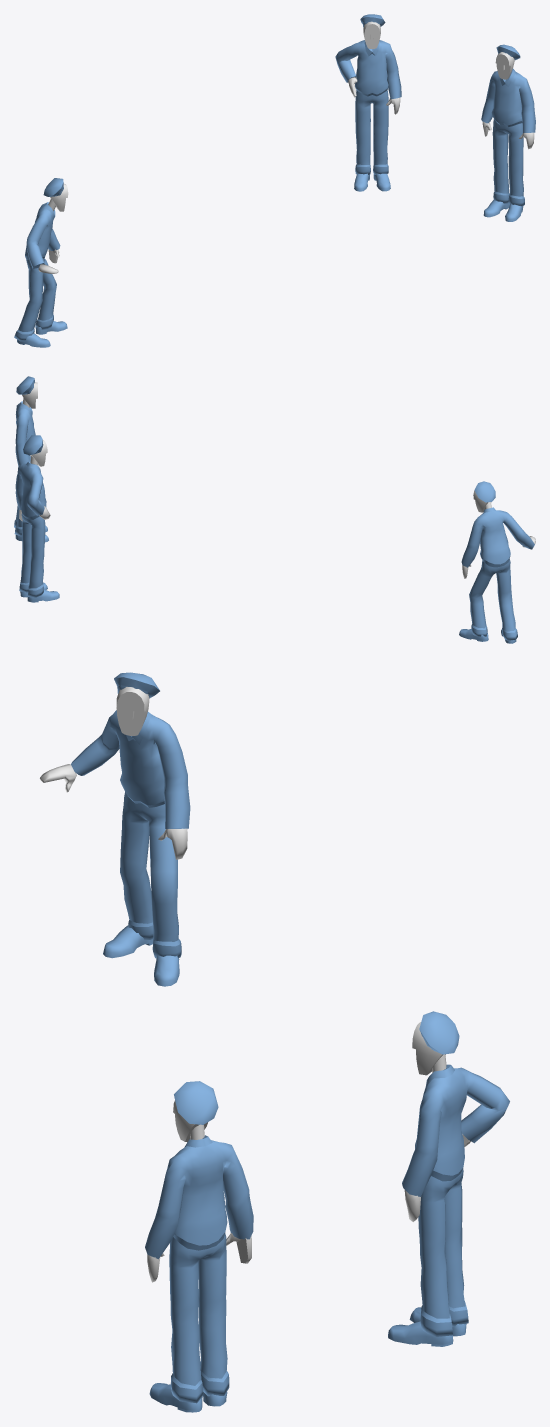
File: mesh_FactoryWorkers.fbx
The picture shows the model from 3 angles, top to bottom: view 1: azimuth 30°, elevation 25°; view 2: azimuth 150°, elevation 25°; view 3: azimuth 270°, elevation 25°; orthographic projection. The views are drawn at different scales.
Parts seen in each view (by area): view 1: figure_prisoner_retop1.001; view 2: figure_prisoner_retop1.001; view 3: figure_prisoner_retop1.001.
Part boxes in pixels (x1,y1,x2,y2): figure_prisoner_retop1.001: [14, 14, 535, 347]; figure_prisoner_retop1.001: [14, 376, 535, 643]; figure_prisoner_retop1.001: [40, 672, 509, 1412].
Bounding box in the file's own units: 642 × 198 × 264.
